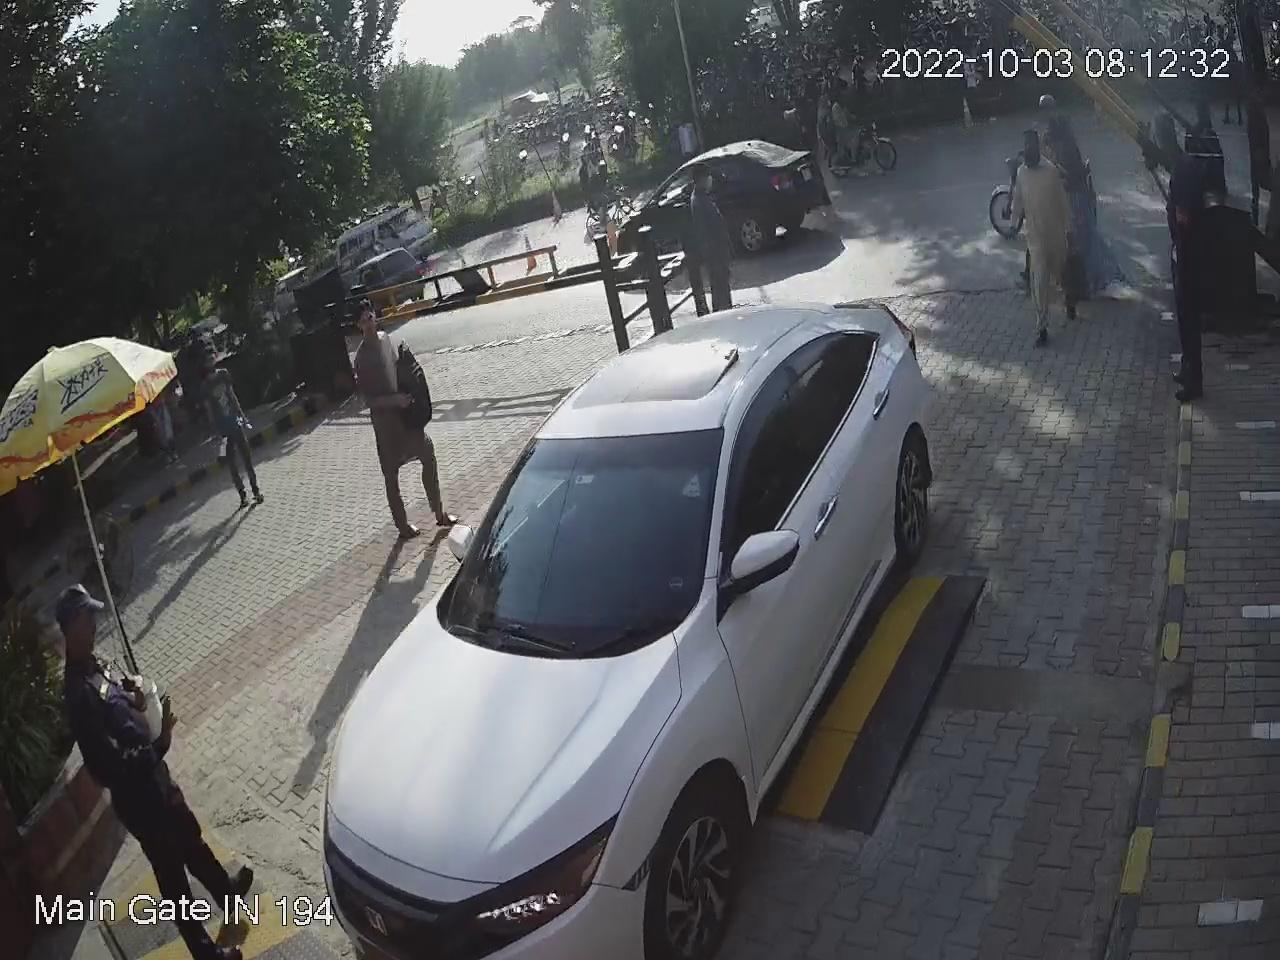windshield: (438, 415, 734, 632)
